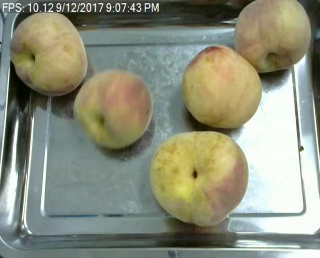Peach: (151, 131, 250, 229), (8, 11, 89, 97), (182, 44, 262, 129), (73, 70, 154, 149), (234, 0, 312, 72)
